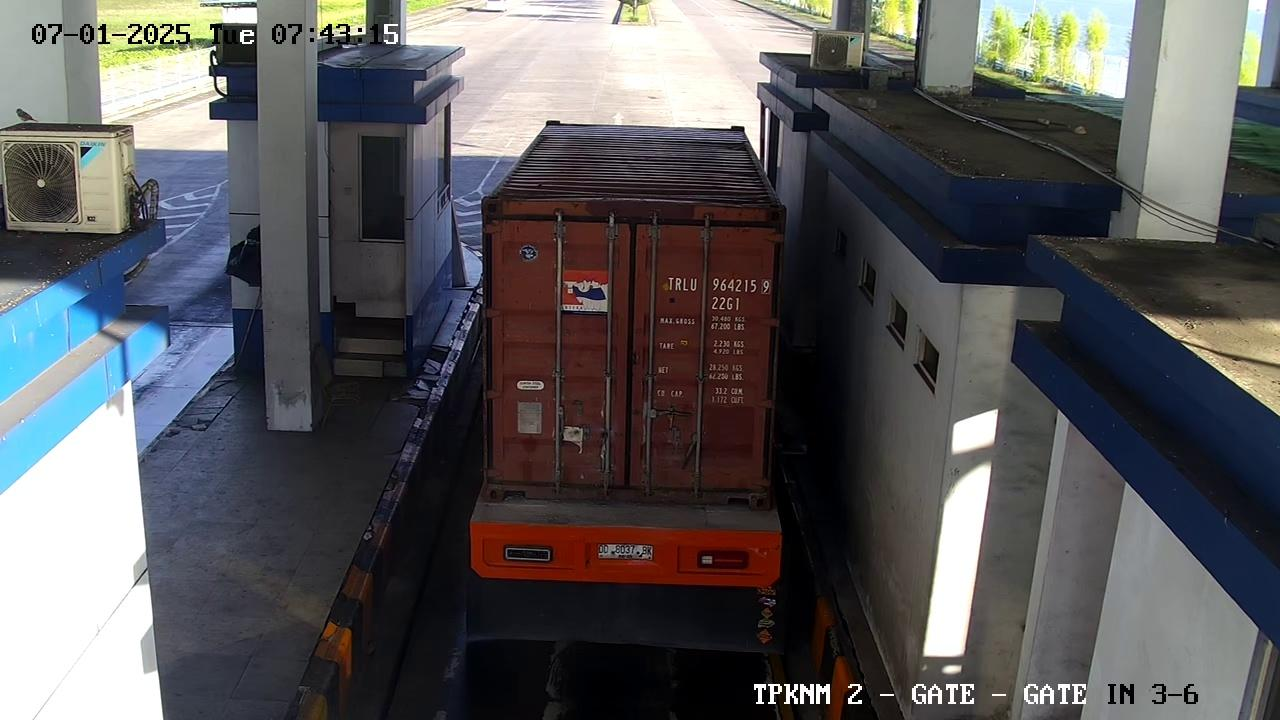Container_ID: (653, 273, 778, 299)
plate_number: (593, 533, 662, 577)
